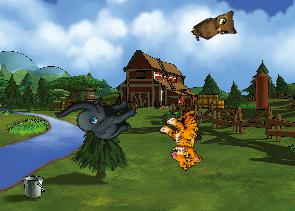elephant: (53, 74, 142, 159)
owl: (189, 5, 243, 53)
tiger: (152, 104, 219, 173)
